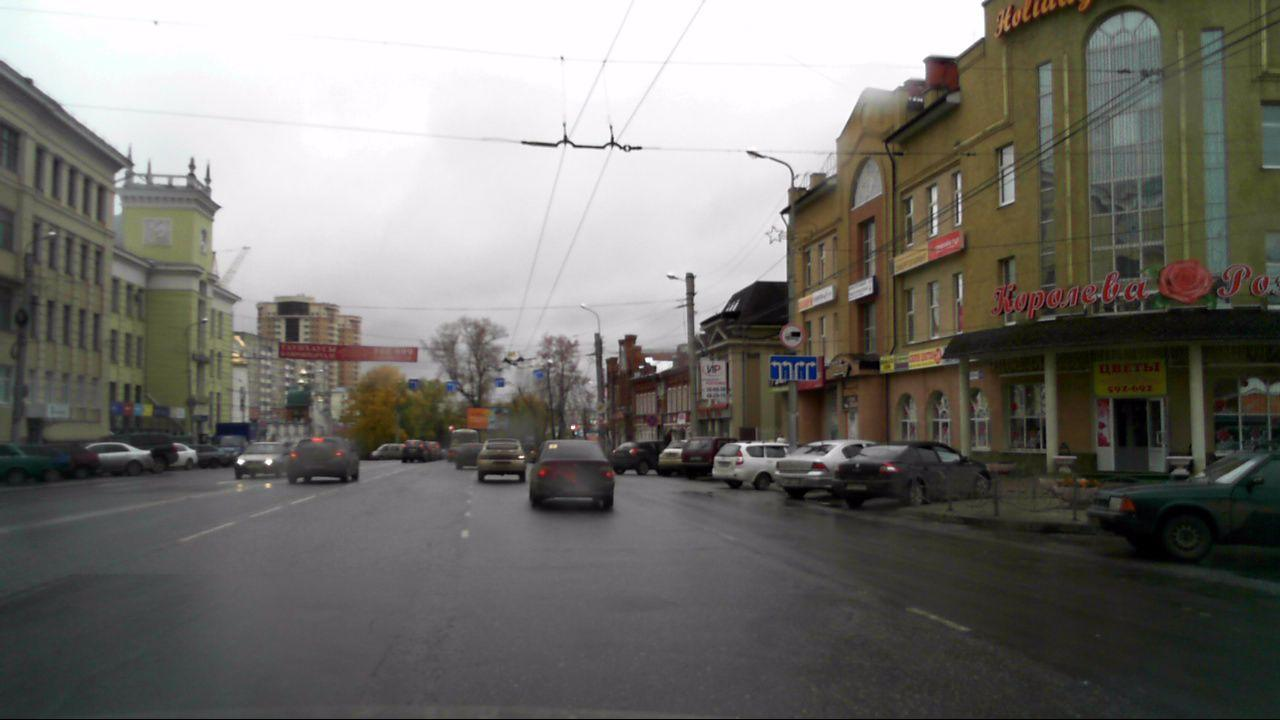road_sign: (768, 354, 818, 381), (778, 323, 805, 350)
